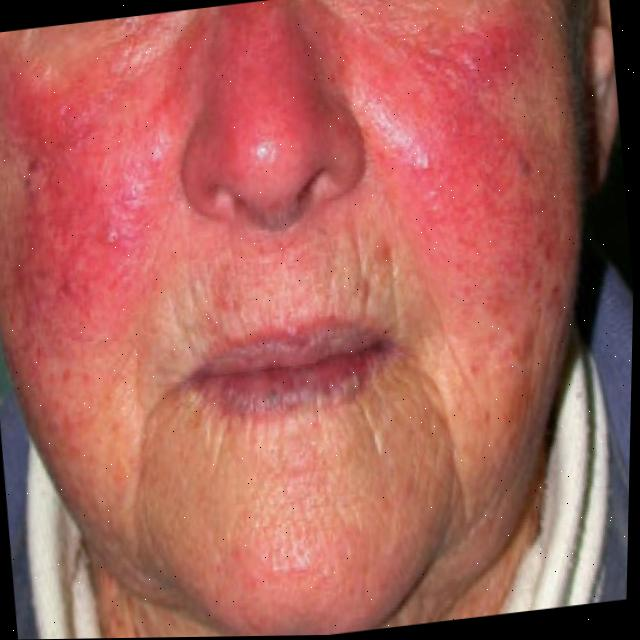Rosacea: (318, 0, 581, 385), (0, 11, 232, 442), (164, 0, 361, 210), (192, 496, 425, 637)
